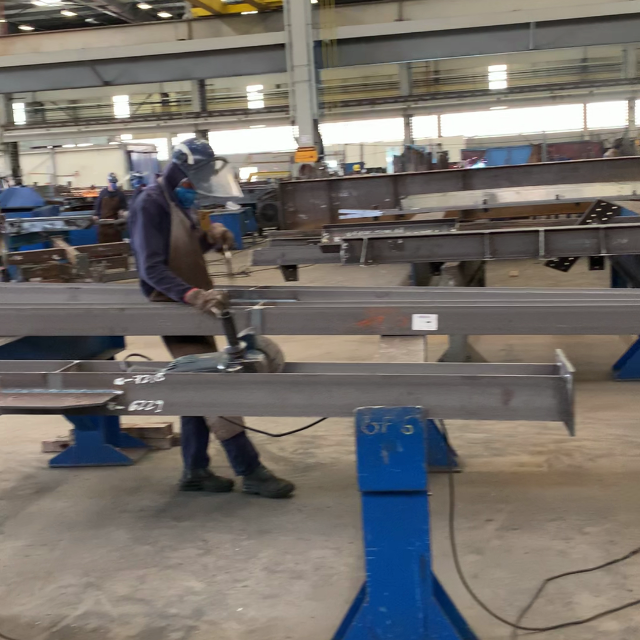face-shield: (181, 160, 242, 199)
glove: (182, 286, 232, 321), (204, 220, 238, 253)
helmet: (167, 140, 217, 168)
person: (129, 139, 240, 315)
safety-shoe: (232, 461, 298, 501), (176, 469, 234, 493)
